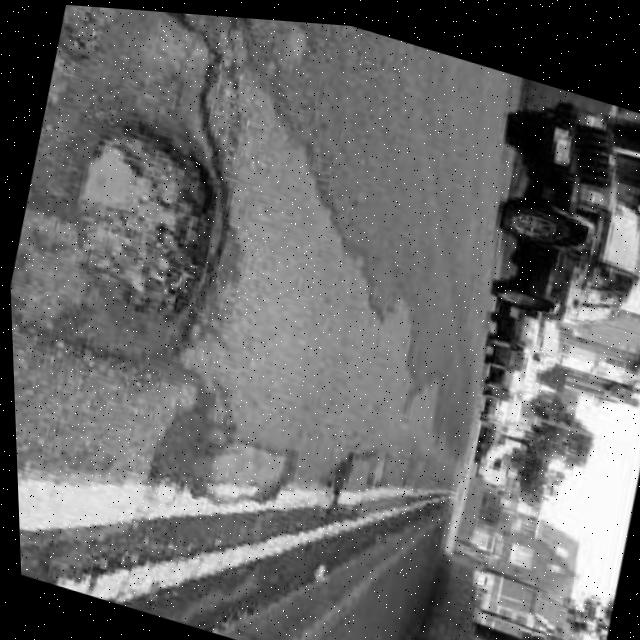Pothole: (46, 103, 246, 342)
